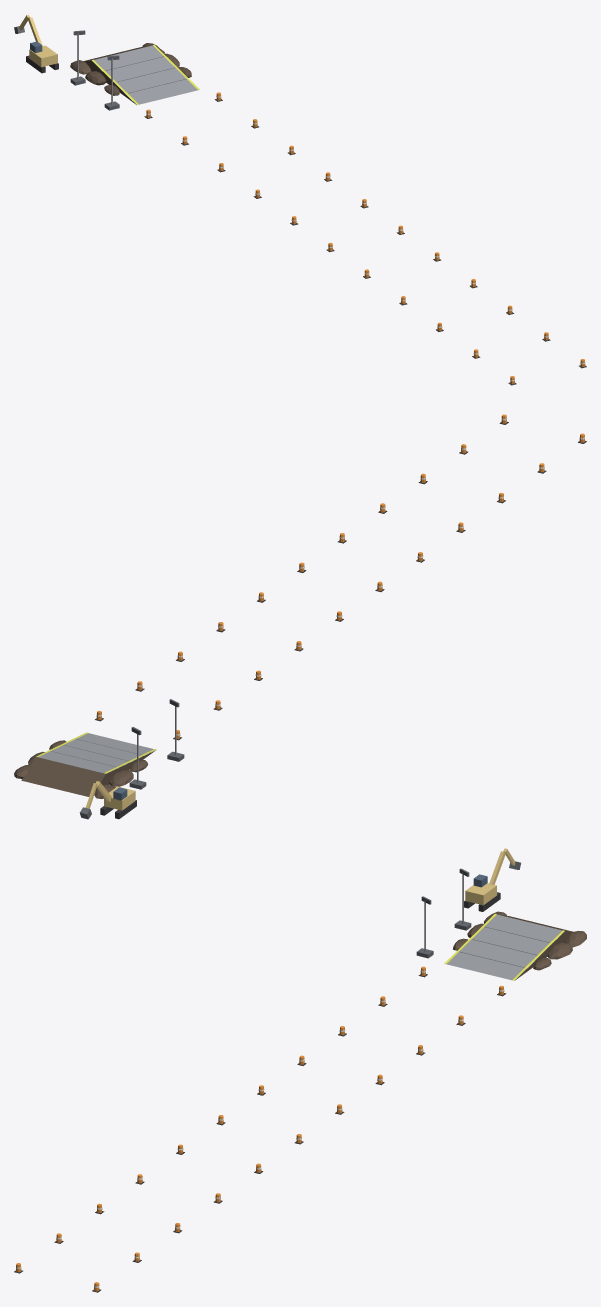
File: WorkZone.obj
3 views of the same model, one above another, from view 1: azimuth 30°, elevation 25°; view 2: azimuth 150°, elevation 25°; view 3: azimuth 330°, elevation 25° (orthographic). The views are drawn at different scales.
Visible parts, largest first — view 1: WorkZone; view 2: WorkZone; view 3: WorkZone.
Part boxes in pixels (x1,y1,x2,y2): WorkZone: (14,14,586,385); WorkZone: (14,414,586,819); WorkZone: (14,848,586,1292).
Bounding box in the file's own units: 17.57 × 7.45 × 125.
1 material, 1 textured.
